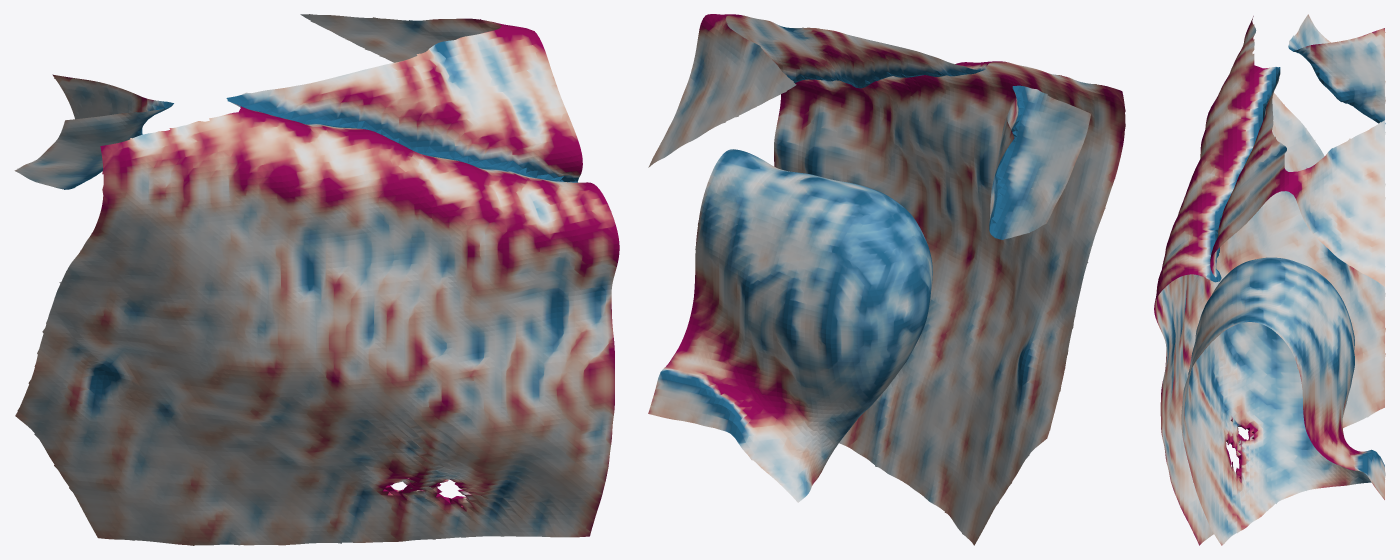
Rendered from crop1030_deviation.glb.
3 views of the same model, side by side, from view 1: azimuth 30°, elevation 25°; view 2: azimuth 150°, elevation 25°; view 3: azimuth 270°, elevation 25° (orthographic). The views are drawn at different scales.
Visible parts, largest first — view 1: world; view 2: world; view 3: world.
Part boxes in pixels (bbox=[...]): world: bbox=[14, 14, 619, 545]; world: bbox=[648, 14, 1125, 545]; world: bbox=[1154, 14, 1385, 545].
Size of the model in its own units: 1479 by 1480 by 853.
